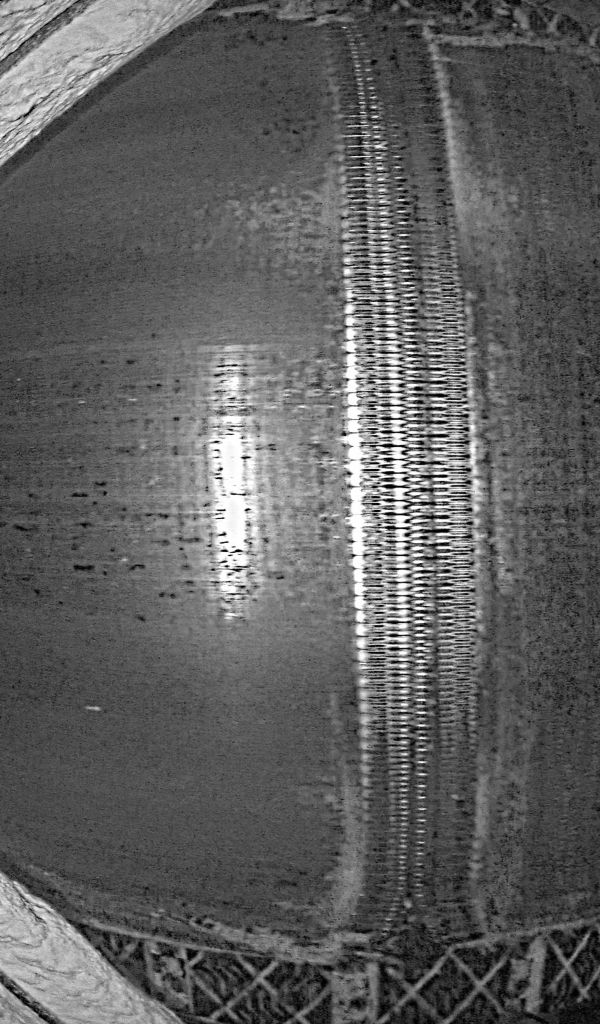damage: (348, 873, 489, 950)
splice: (307, 16, 486, 944)
